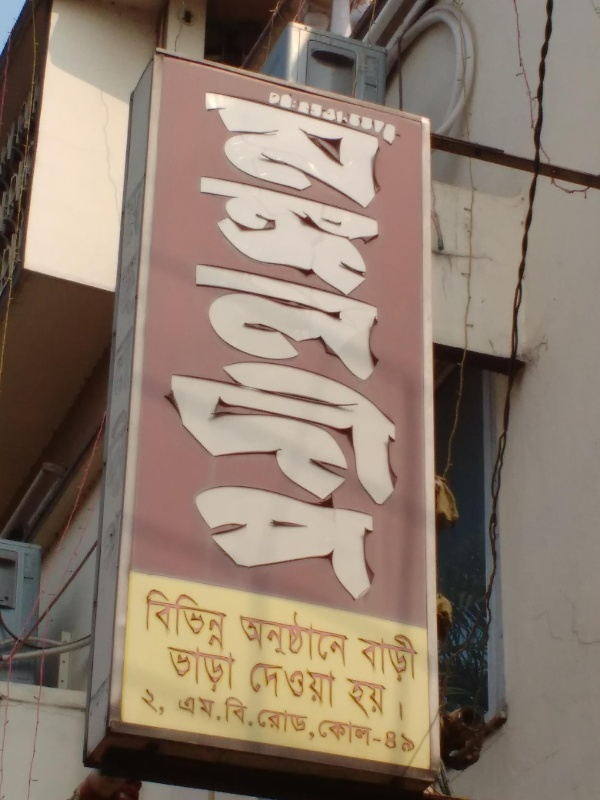text: (193, 80, 208, 615), (209, 80, 224, 615), (225, 80, 240, 615), (241, 80, 256, 615), (257, 80, 272, 615), (273, 80, 288, 615), (289, 80, 304, 615), (305, 80, 320, 615), (321, 80, 336, 615), (337, 80, 352, 615), (353, 80, 368, 615), (369, 80, 384, 615), (385, 80, 400, 615), (188, 80, 192, 615), (161, 586, 176, 653), (177, 586, 192, 653), (193, 586, 208, 653), (209, 586, 224, 653), (241, 602, 256, 669), (257, 602, 272, 669), (273, 602, 288, 669), (289, 602, 304, 669), (305, 602, 320, 669), (321, 602, 336, 669), (369, 623, 384, 686), (385, 623, 400, 686), (401, 623, 416, 686), (337, 602, 350, 669), (177, 640, 192, 698), (193, 640, 208, 698), (209, 640, 224, 698), (273, 89, 288, 145), (289, 89, 304, 145), (305, 89, 320, 145), (321, 89, 336, 145), (337, 89, 352, 145), (353, 89, 368, 145), (369, 89, 384, 145), (355, 623, 368, 686), (148, 586, 160, 653), (257, 658, 272, 708), (273, 658, 288, 708), (289, 658, 304, 708), (305, 658, 320, 708), (321, 658, 336, 708), (353, 677, 368, 726), (369, 677, 384, 726), (385, 677, 400, 726), (225, 640, 236, 698), (385, 89, 396, 145), (401, 80, 402, 615), (273, 707, 288, 742), (289, 707, 304, 742), (167, 640, 176, 698), (321, 716, 336, 750), (337, 716, 352, 750), (353, 716, 368, 750), (241, 696, 257, 727), (258, 707, 272, 742), (369, 716, 383, 750), (145, 688, 160, 718), (177, 693, 192, 722), (193, 693, 208, 722), (226, 696, 240, 727), (305, 707, 317, 742), (209, 693, 222, 722), (385, 729, 400, 753), (401, 729, 416, 753), (161, 688, 172, 718), (346, 677, 352, 726), (225, 586, 229, 653), (252, 658, 256, 708), (401, 677, 405, 726), (417, 623, 419, 686), (271, 89, 272, 145)
